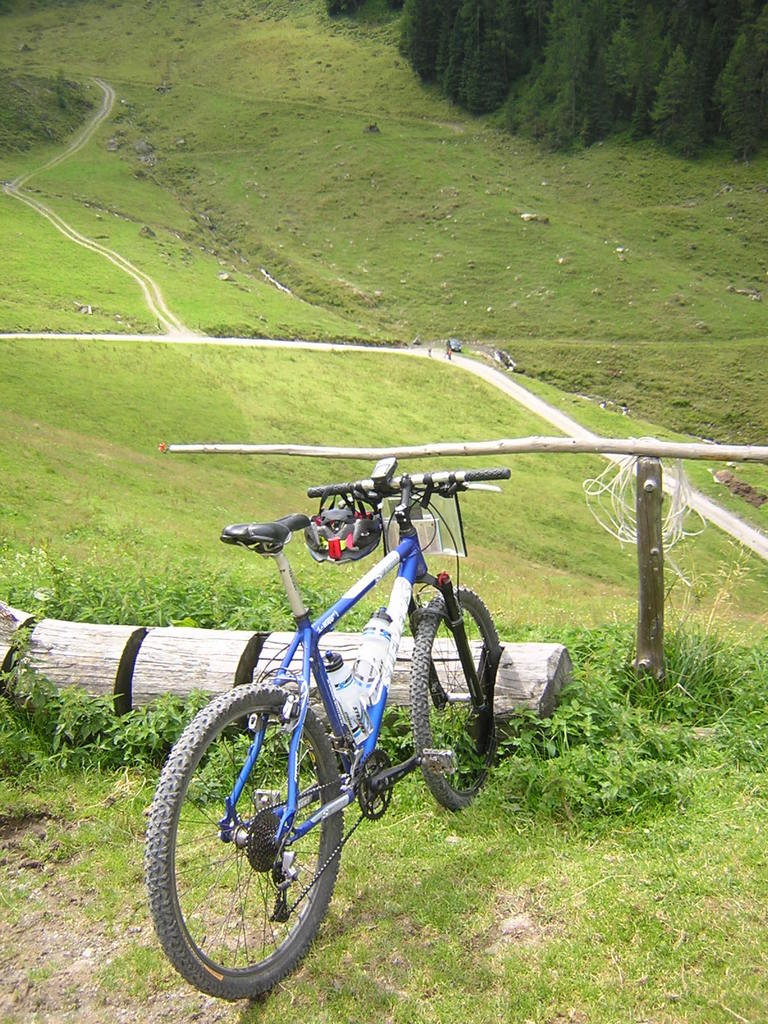Bike: (136, 470, 530, 1003)
